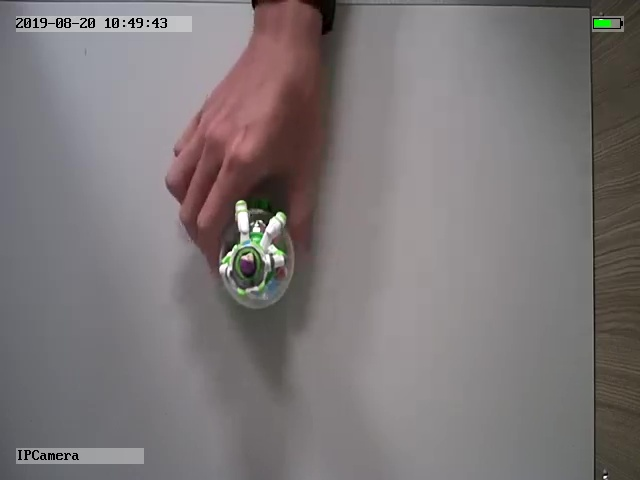buzz: (217, 198, 297, 310)
